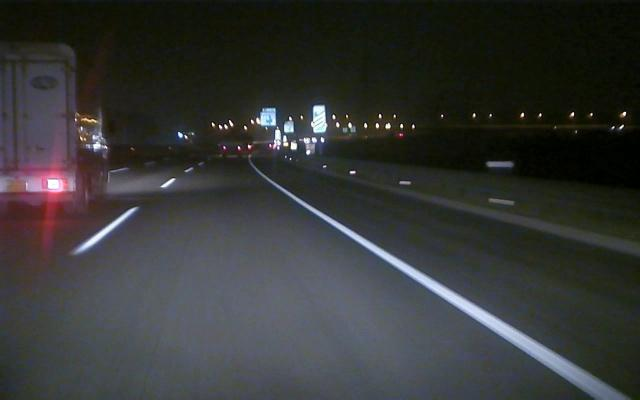lane: (259, 173, 626, 396), (68, 167, 194, 255)
